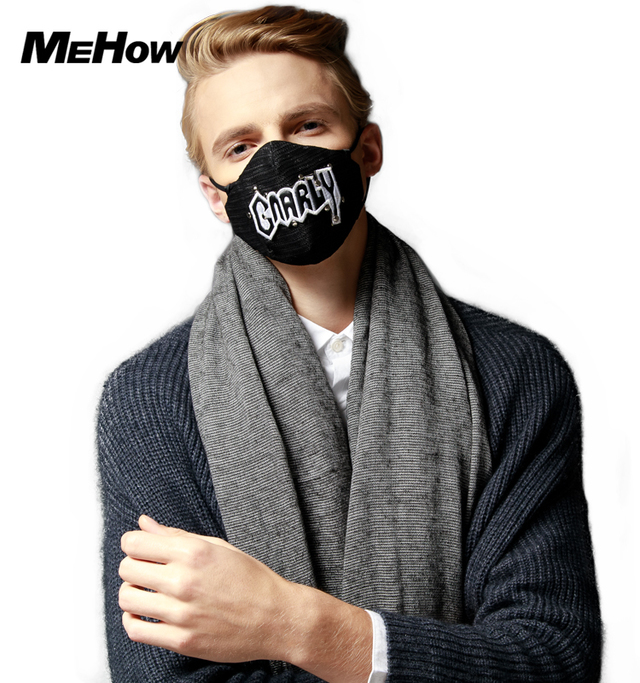mask: (223, 153, 366, 258)
